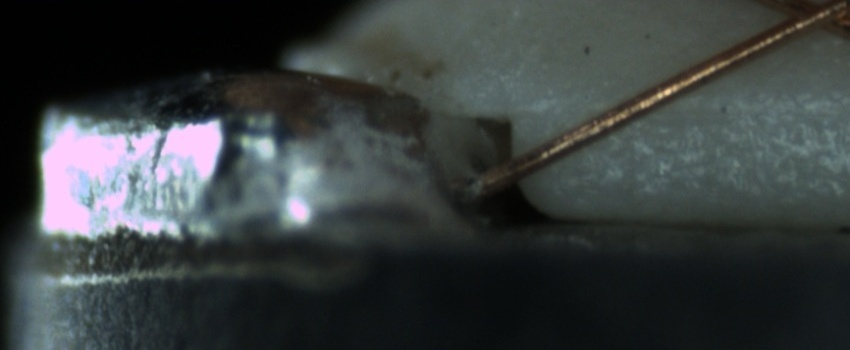CL: (761, 0, 845, 42)
DL: (624, 83, 850, 139)
